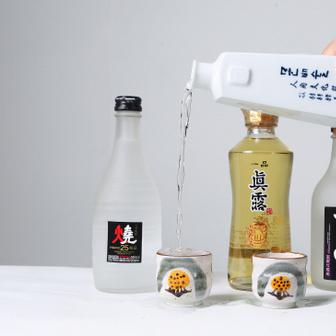soju: (221, 96, 299, 297), (92, 94, 165, 294), (179, 41, 336, 129)
